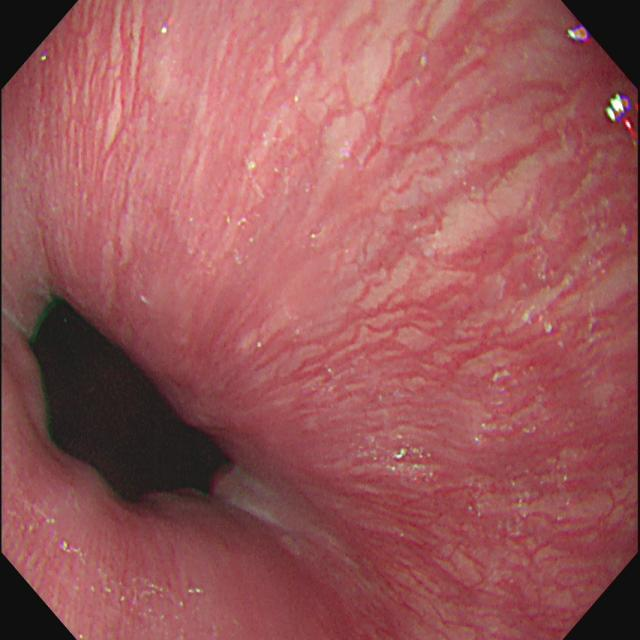E: (27, 287, 243, 513)
U: (606, 91, 639, 134), (567, 25, 595, 49)
